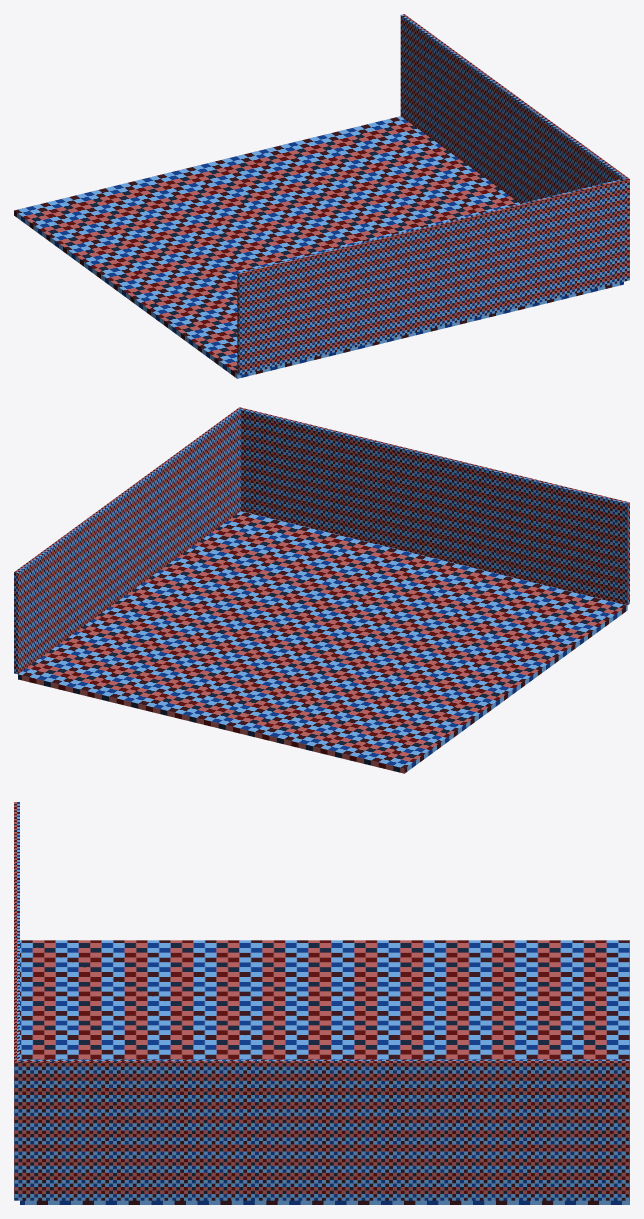
File: catWalk_Large_turn_01.fbx
3 views of the same model, one above another, from view 1: azimuth 30°, elevation 25°; view 2: azimuth 150°, elevation 25°; view 3: azimuth 270°, elevation 25° (orthographic). The views are drawn at different scales.
Parts seen in each view (by area): view 1: catWalk_Large_turn_01; view 2: catWalk_Large_turn_01; view 3: catWalk_Large_turn_01.
Part boxes in pixels (box(x1,y1,x2,y2)): catWalk_Large_turn_01: box(14, 14, 629, 378); catWalk_Large_turn_01: box(14, 407, 629, 773); catWalk_Large_turn_01: box(14, 802, 629, 1204).
Size of the model in its own units: 404 by 105 by 404.
Materials: 1 (1 with a texture image).
